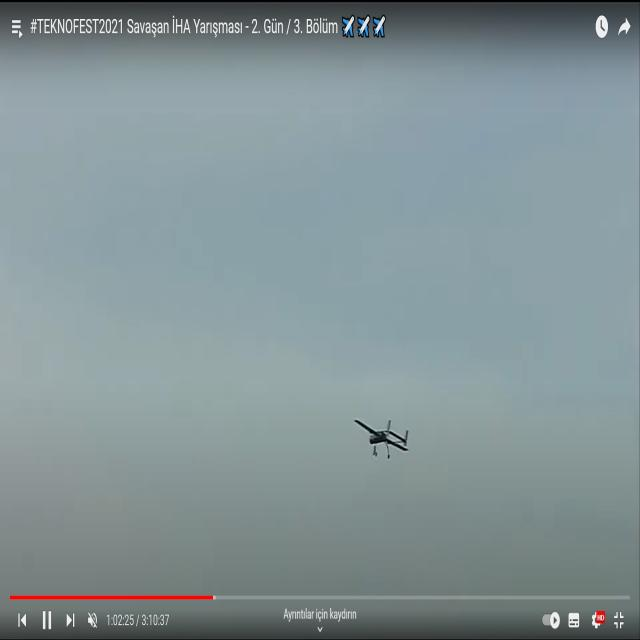iha: (353, 414, 409, 459)
